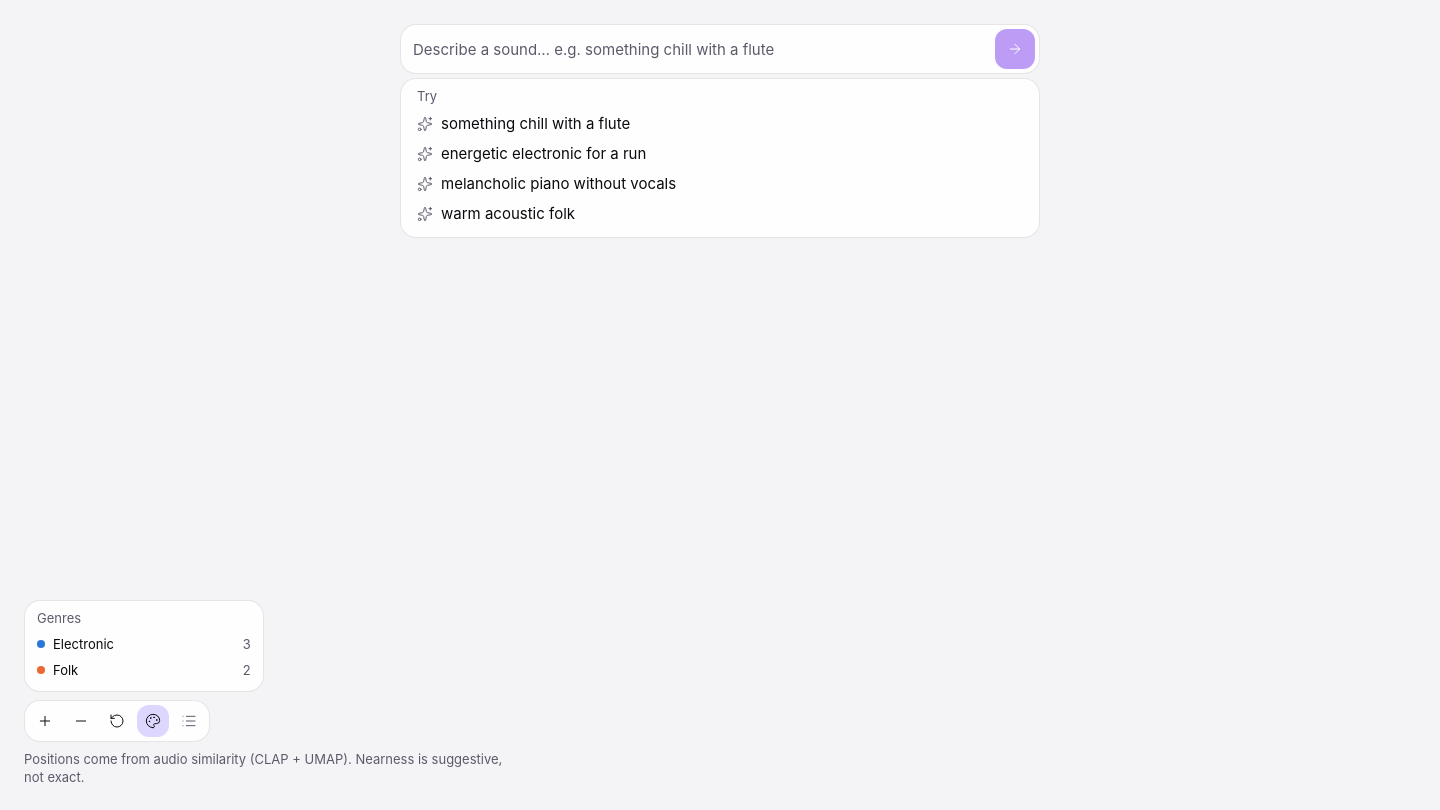
DiscoverPage › happy: shows the plate in API order, the chips, and announces the count
The image size is (1440, 810).
Step 1. Type "chill flute" into the field named "Search by describing a sound" → (700, 49), box [413,29,987,69]
Then press Enter
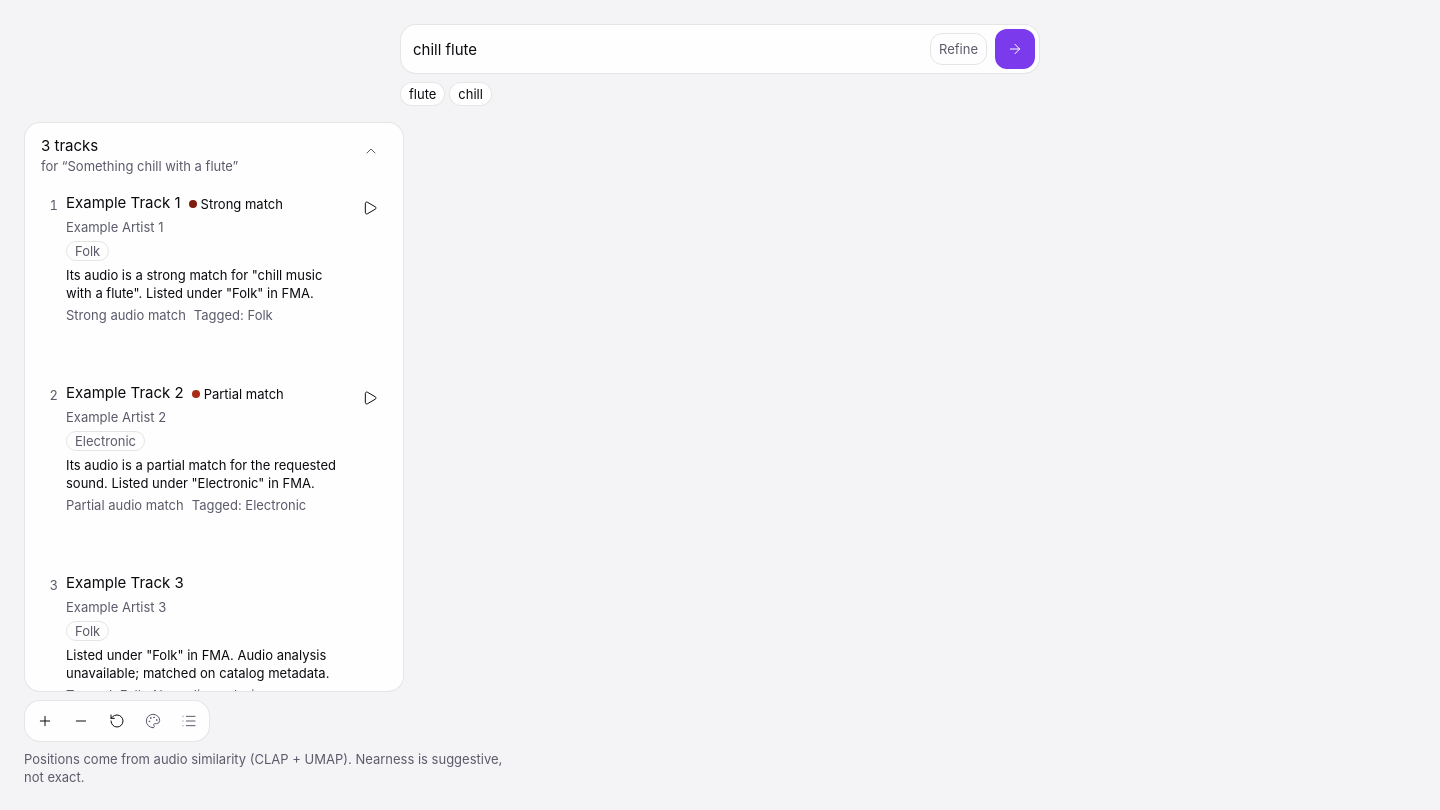
Now the element named "What the search understood" is shown, box [400,82,492,106]
Now the heading "3 tracks" is shown, box [41,136,98,155]
